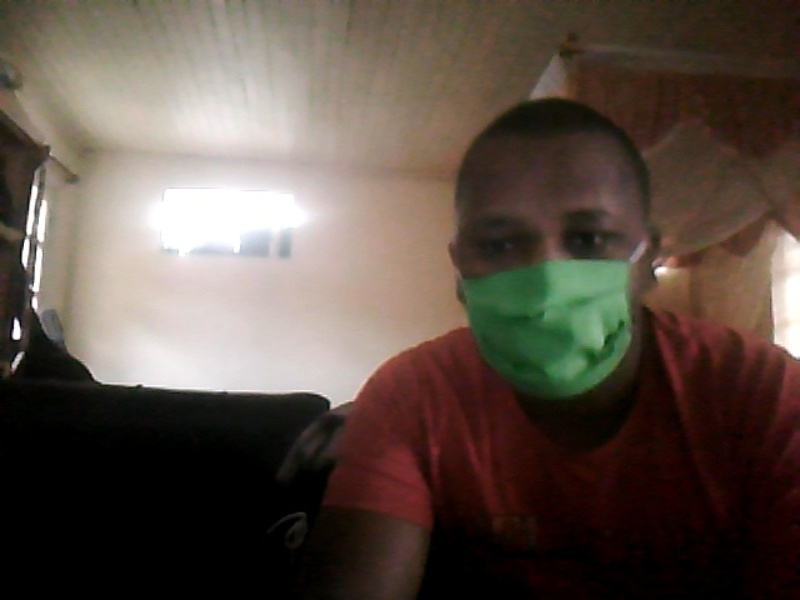ManaoArotava: (431, 105, 683, 429)
